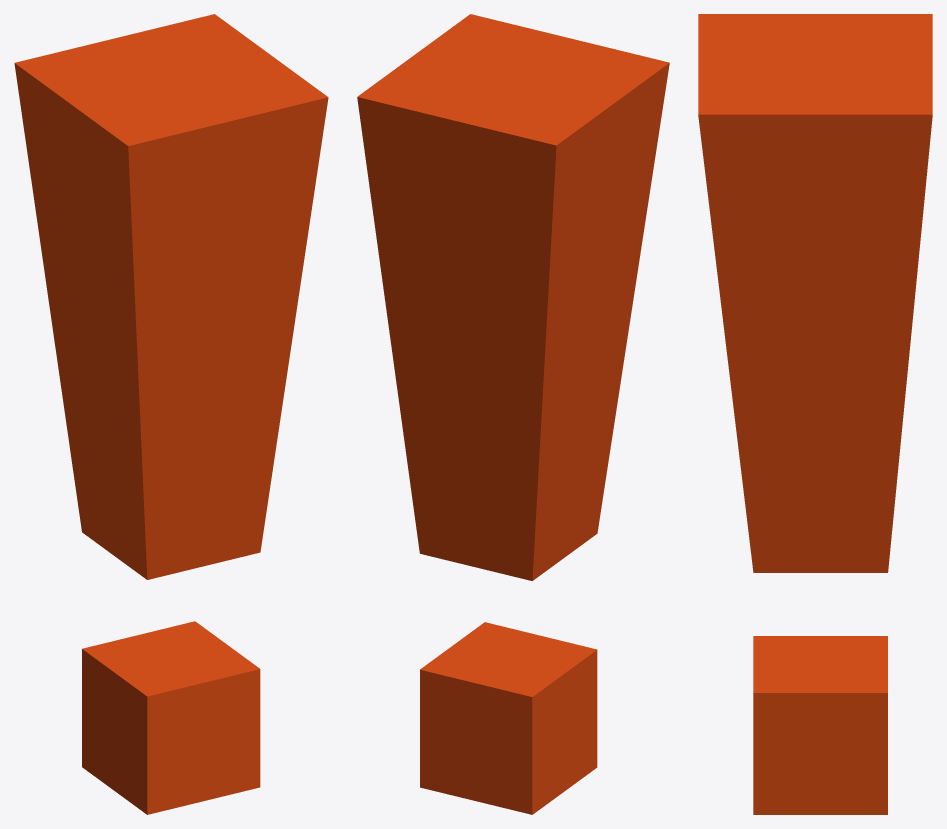
Rendered from warningSign.fbx.
3 views of the same model, side by side, from view 1: azimuth 30°, elevation 25°; view 2: azimuth 150°, elevation 25°; view 3: azimuth 270°, elevation 25° (orthographic). The views are drawn at different scales.
Parts seen in each view (by area): view 1: Cube; view 2: Cube; view 3: Cube.
Part boxes in pixels (box(x1,y1,x2,y2)): Cube: box(14, 14, 328, 814); Cube: box(357, 14, 669, 814); Cube: box(698, 14, 932, 814).
Size of the model in its own units: 77.64 by 259 by 76.41.
